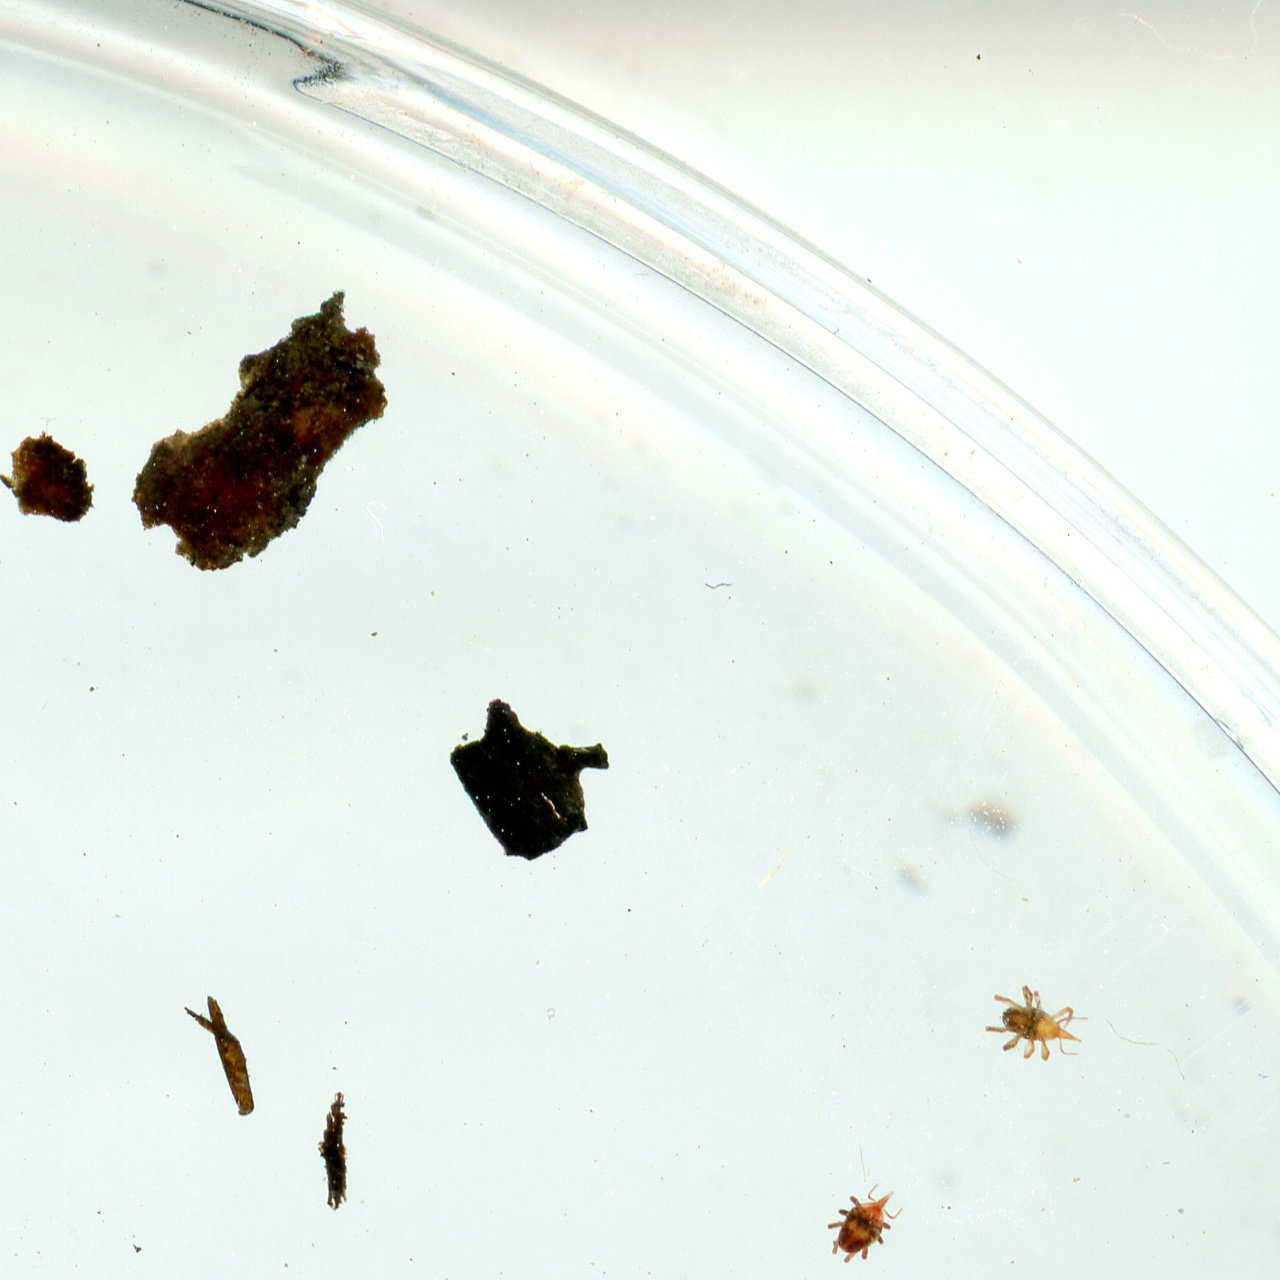arthropod: (985, 981, 1088, 1065), (829, 1180, 904, 1263), (987, 972, 1027, 1049)
